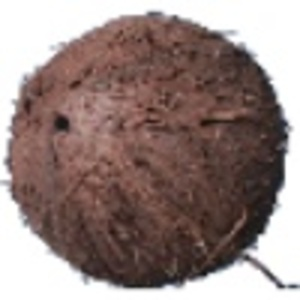coco: (6, 13, 300, 290)
